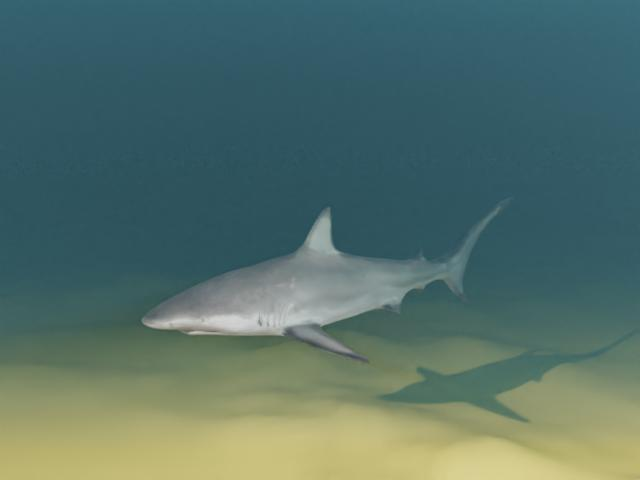Carribean Shark.001: (141, 197, 514, 363)
